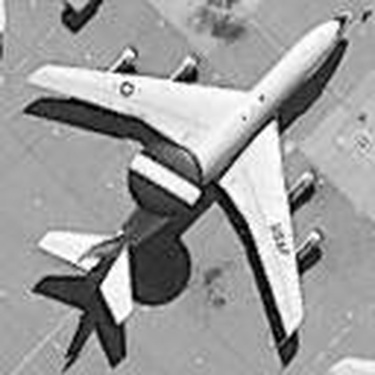airplane: (16, 12, 359, 351)
